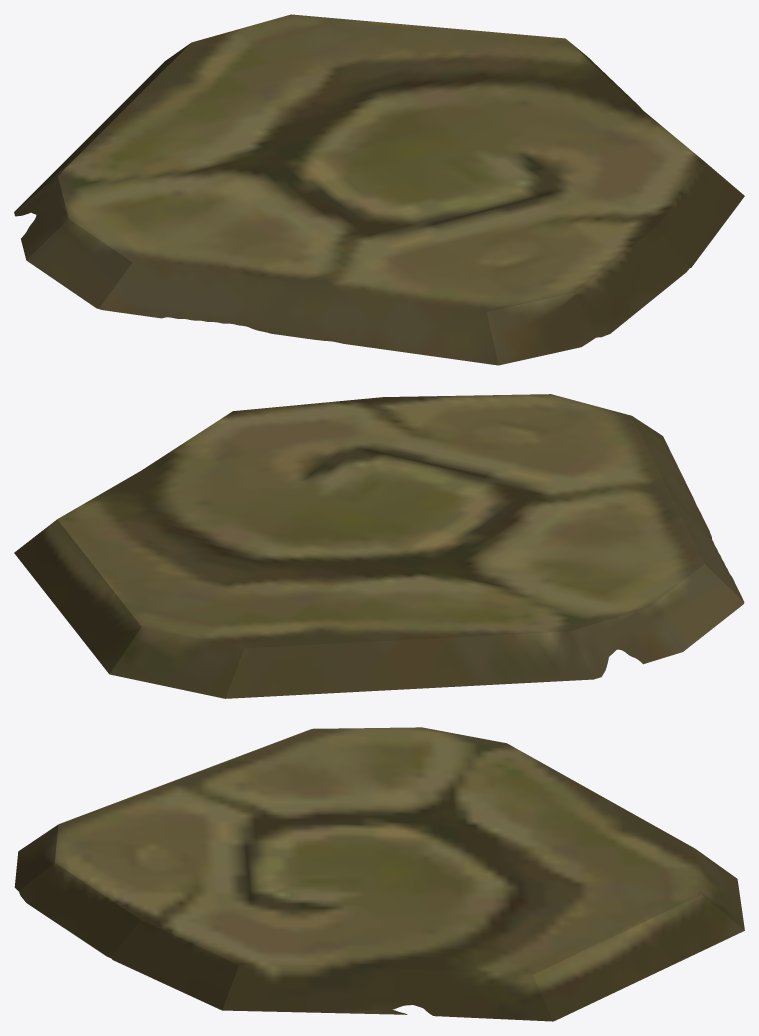
Rendered from paver_03.fbx.
The picture shows the model from 3 angles, top to bottom: view 1: azimuth 30°, elevation 25°; view 2: azimuth 150°, elevation 25°; view 3: azimuth 270°, elevation 25°; orthographic projection. The views are drawn at different scales.
Parts seen in each view (by area): view 1: obj0.180; view 2: obj0.180; view 3: obj0.180.
Boxes of the visible parts, left/top/right/bottom form: obj0.180: left=14, top=14, right=744, bottom=365; obj0.180: left=14, top=394, right=744, bottom=698; obj0.180: left=14, top=727, right=744, bottom=1021.
Bounding box in the file's own units: 1.28 × 0.0678 × 1.42.
